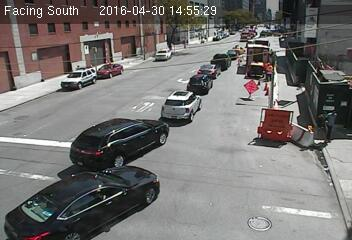neg: (147, 82, 177, 121), (154, 139, 178, 171), (209, 142, 233, 173), (197, 59, 212, 78)
pos: (320, 109, 342, 138), (260, 59, 279, 85), (311, 109, 330, 134)
